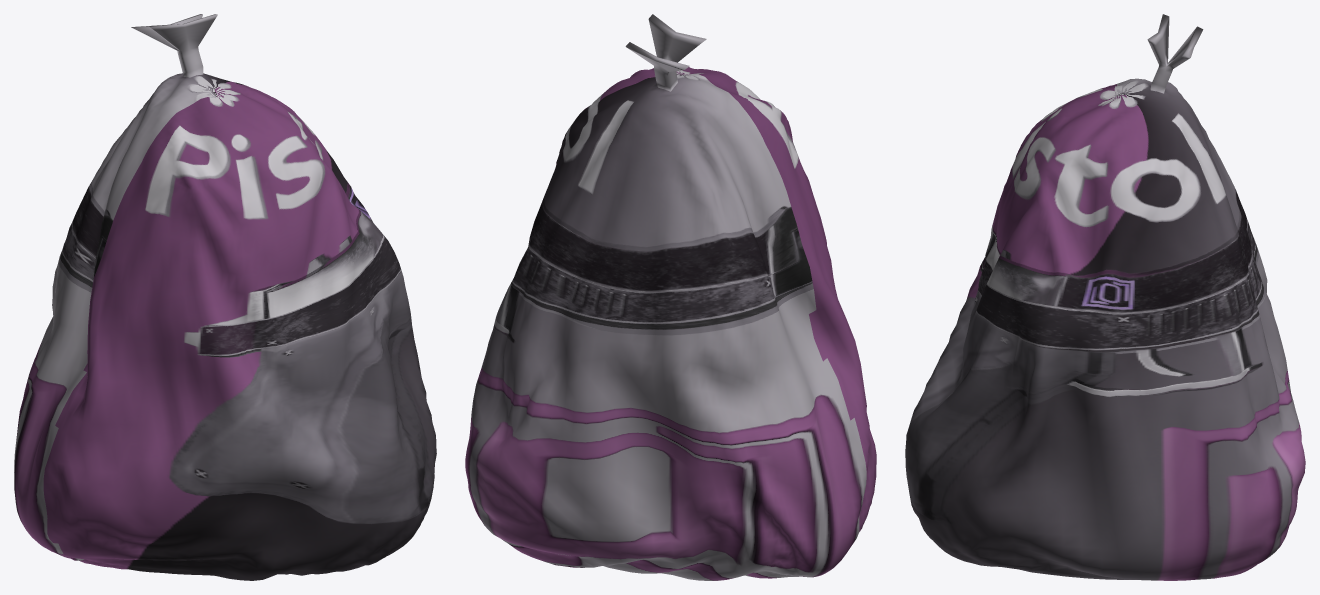
The model's file is SM_TrashBag1HI.fbx.
3 renders of one model, left to right at view 1: azimuth 30°, elevation 25°; view 2: azimuth 150°, elevation 25°; view 3: azimuth 270°, elevation 25°, orthographic. The views are drawn at different scales.
Visible parts, largest first — view 1: Trash Bag LOW; view 2: Trash Bag LOW; view 3: Trash Bag LOW.
Boxes of the visible parts, bbox=[...] form: Trash Bag LOW: bbox=[14, 14, 436, 580]; Trash Bag LOW: bbox=[465, 14, 876, 580]; Trash Bag LOW: bbox=[905, 14, 1305, 580].
Bounding box in the file's own units: 33.71 × 35.44 × 50.03.
